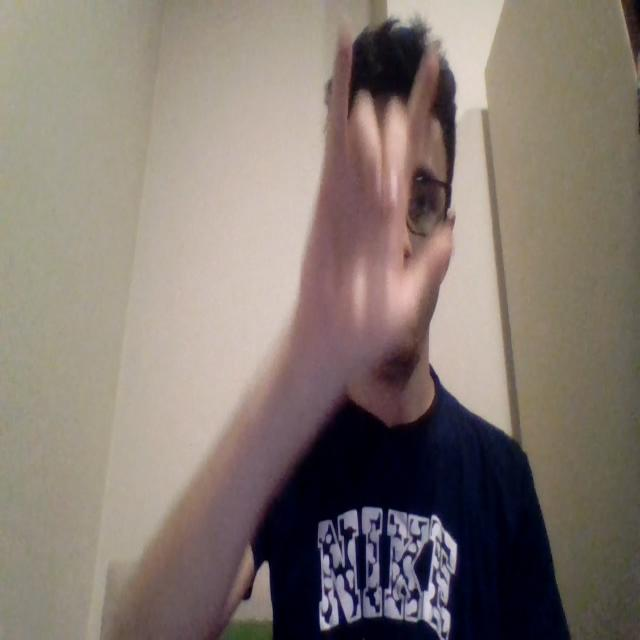iloveyou: (287, 16, 457, 397)
